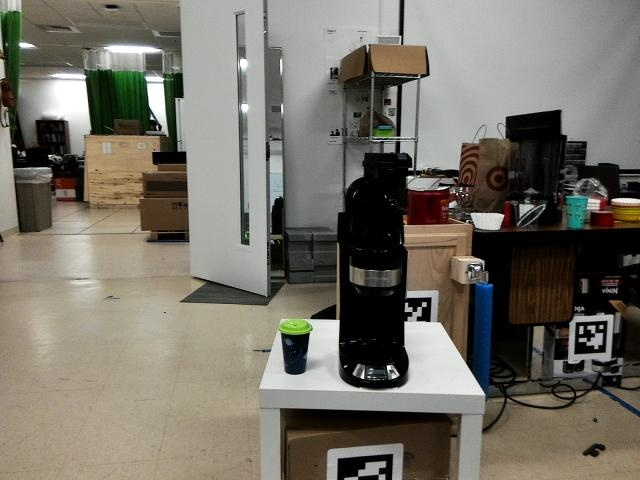coffee_cup: (561, 193, 590, 233)
noodle_handle: (464, 273, 502, 393)
useless_cup: (277, 317, 314, 378)
